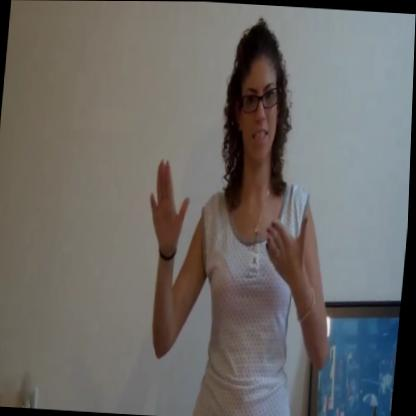NiceToMeetYou: (130, 143, 321, 307)
